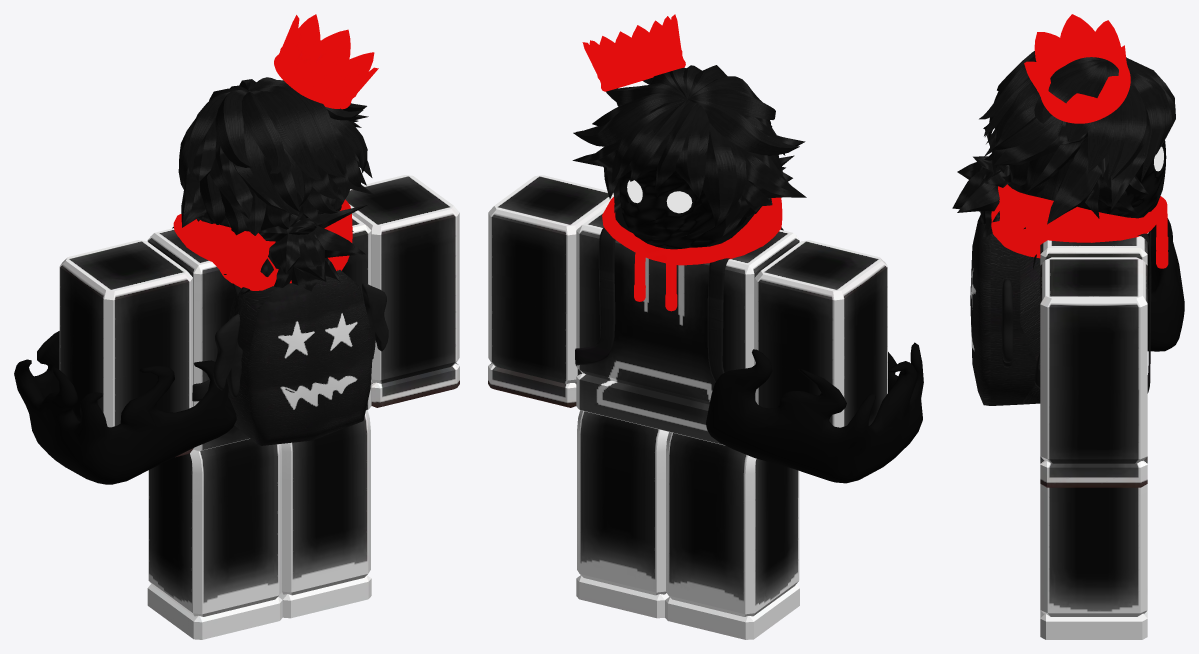
File: avatar.glb
3 renders of one model, left to right at view 1: azimuth 30°, elevation 25°; view 2: azimuth 150°, elevation 25°; view 3: azimuth 270°, elevation 25°, orthographic. The views are drawn at different scales.
Parts seen in each view (by area): view 1: Handle1, Handle5, Handle3, Sabbz2z11, Sabbz2z8, Sabbz2z10, Sabbz2z6, Sabbz2z4, Sabbz2z2, Handle2, Sabbz2z7, Sabbz2z12 (+6 smaller); view 2: Handle1, Sabbz2z7, Handle3, Sabbz2z11, Sabbz2z8, Sabbz2z10, Sabbz2z6, Sabbz2z4, Sabbz2z2, Sabbz2z12, Handle6, Handle4 (+7 smaller); view 3: Handle1, Sabbz2z10, Handle5, Sabbz2z4, Sabbz2z12, Handle4, Handle2, Sabbz2z2, Handle3, Sabbz2z14, Sabbz2z5, Sabbz2z7 (+1 smaller).
Part boxes in pixels (x1,y1,x2,y2): Handle1: (178, 77, 374, 294); Handle5: (172, 226, 388, 445); Handle3: (14, 331, 236, 484); Sabbz2z11: (59, 240, 192, 379); Sabbz2z8: (148, 497, 281, 616); Sabbz2z10: (345, 175, 459, 312); Sabbz2z6: (148, 439, 281, 530); Sabbz2z4: (281, 486, 370, 595); Sabbz2z2: (281, 410, 370, 508); Handle2: (274, 14, 378, 109); Sabbz2z7: (147, 215, 371, 406); Sabbz2z12: (371, 292, 459, 383); Handle1: (572, 65, 806, 236); Sabbz2z7: (576, 207, 799, 404); Handle3: (706, 342, 923, 483); Sabbz2z11: (754, 240, 887, 379); Sabbz2z8: (666, 497, 799, 616); Sabbz2z10: (488, 175, 613, 314); Sabbz2z6: (666, 432, 799, 530); Sabbz2z4: (577, 486, 666, 595); Sabbz2z2: (577, 410, 668, 508); Sabbz2z12: (488, 292, 580, 383); Handle6: (619, 166, 749, 249); Handle4: (602, 197, 782, 311); Handle1: (952, 51, 1175, 240); Sabbz2z10: (1040, 257, 1147, 389); Handle5: (970, 215, 1151, 405); Sabbz2z4: (1040, 522, 1147, 616); Sabbz2z12: (1040, 387, 1147, 463); Handle4: (991, 184, 1168, 268); Handle2: (1024, 14, 1130, 123); Sabbz2z2: (1040, 484, 1147, 525); Handle3: (1147, 218, 1184, 351); Sabbz2z14: (1040, 456, 1147, 487); Sabbz2z5: (1040, 610, 1147, 639); Sabbz2z7: (1040, 233, 1147, 264).
Size of the model in its own units: 4.41 by 6.13 by 2.16.
7 materials, 7 textured.
